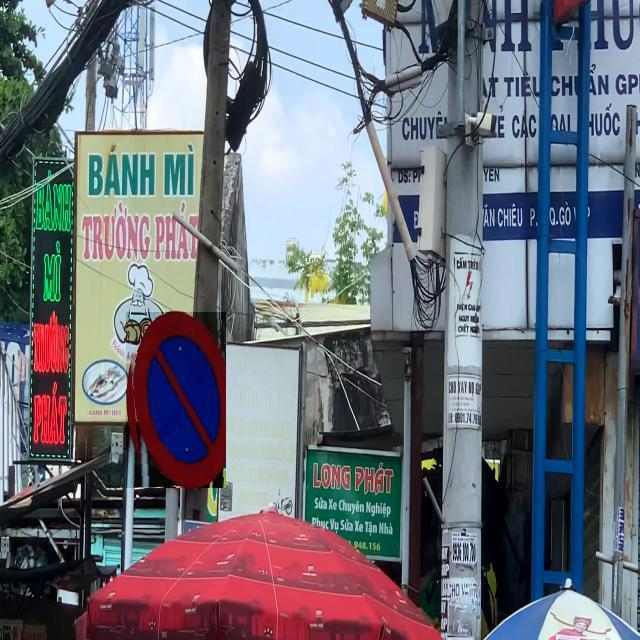P-131a: (126, 312, 226, 488)
